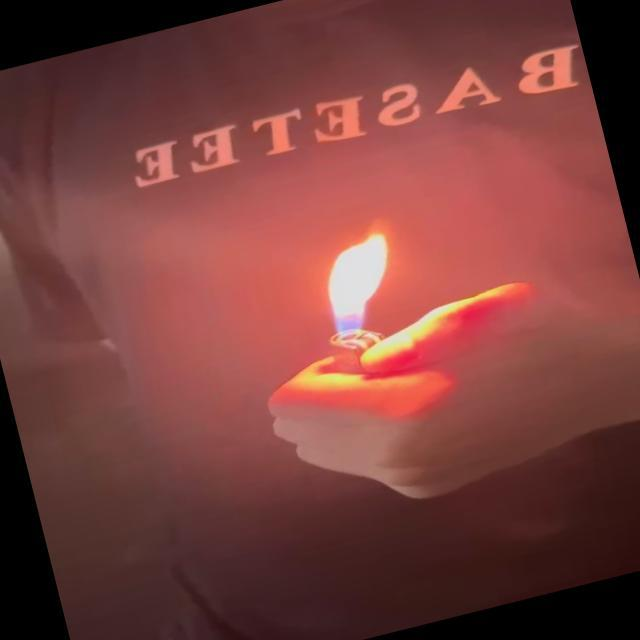Fire: (301, 227, 412, 349)
